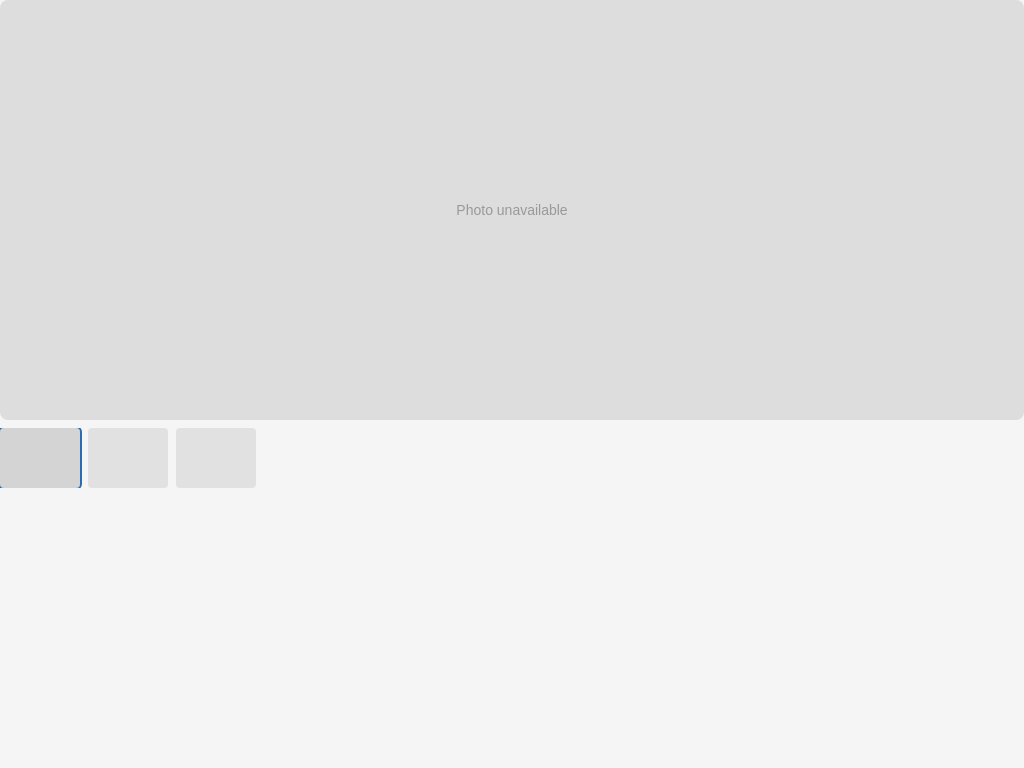
Test: a broken main image falls back to a placeholder that still opens the lightbox
The image size is (1024, 768).
Expected: the picture named "123 Main St" reads "Photo unavailable", [456, 202, 568, 218]
Click the picture named "123 Main St" at (512, 210), box [0, 0, 1023, 420]
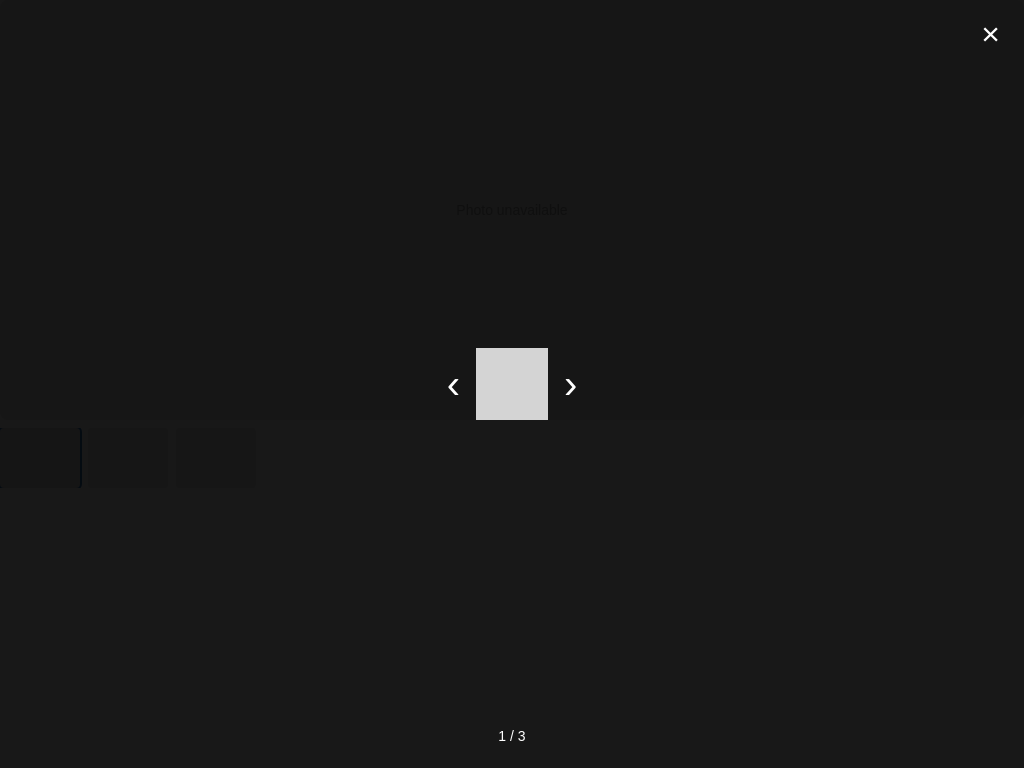
Expected: the dialog is shown
